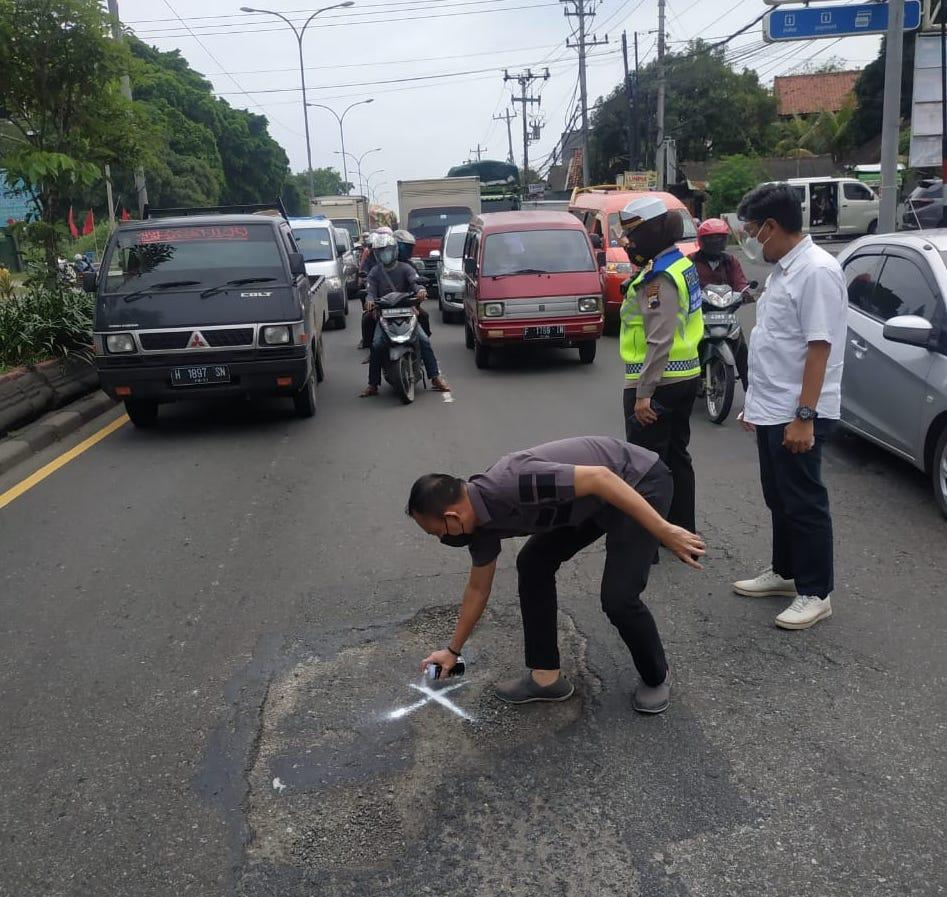Pothole: (363, 588, 512, 678)
